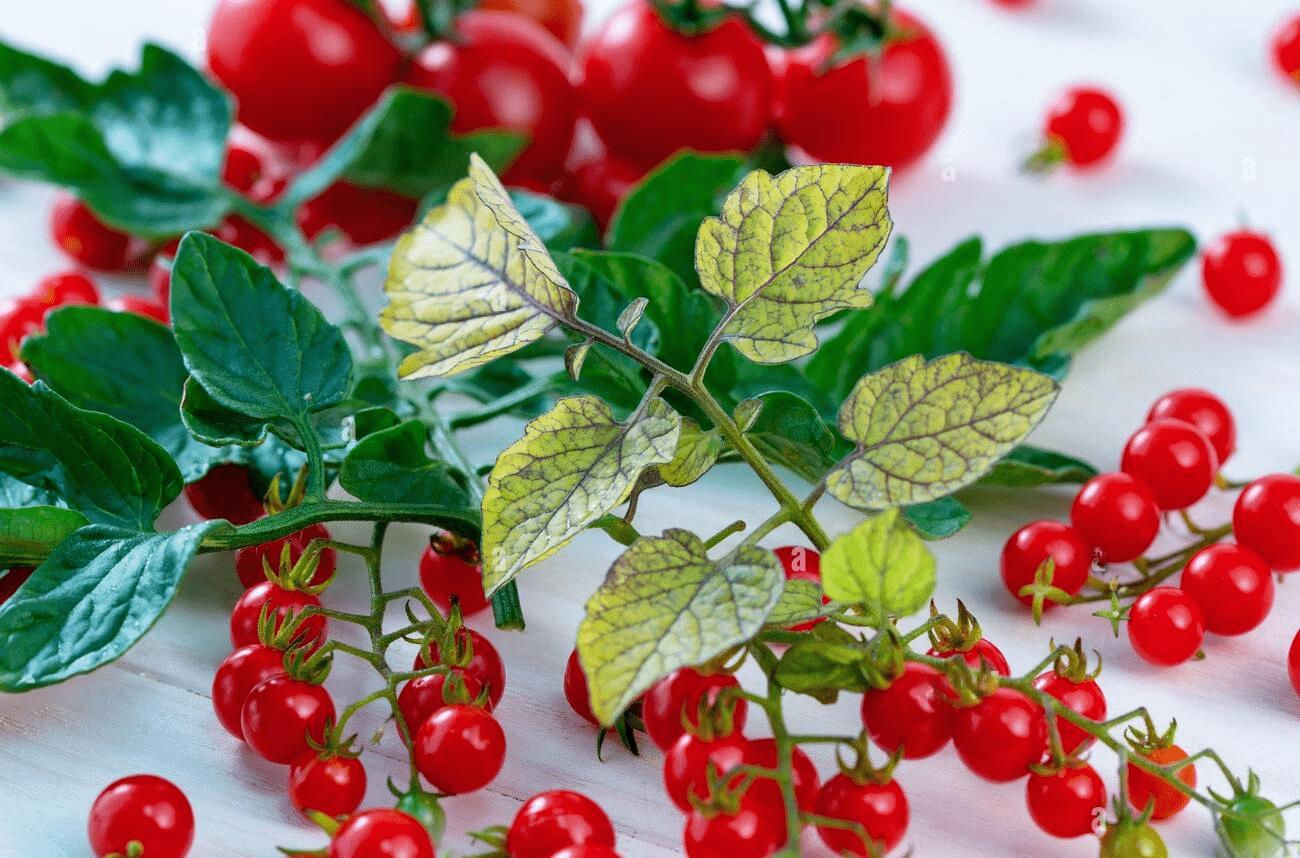Healthy: (0, 502, 245, 690), (160, 224, 355, 428), (0, 369, 185, 526)
Yellow Leaf Curl Virus: (378, 144, 586, 392), (472, 368, 686, 606), (570, 530, 786, 738), (692, 160, 896, 366), (822, 346, 1064, 512), (820, 518, 944, 630)
